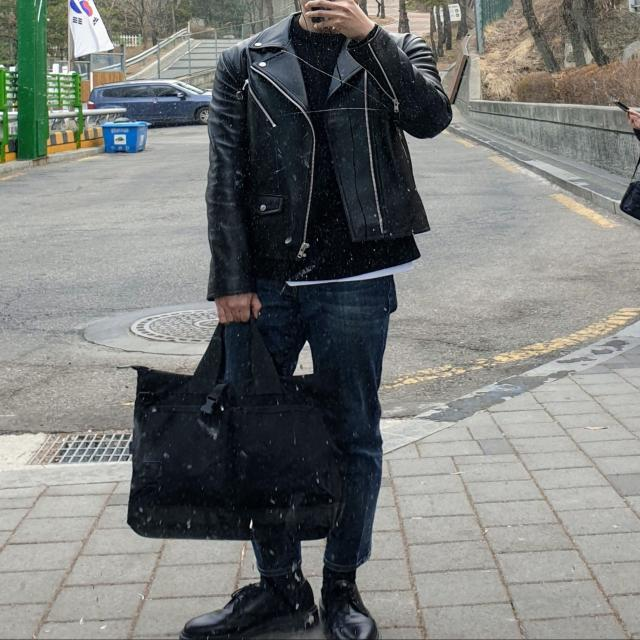denimpants: (236, 271, 400, 575)
jacket: (208, 10, 452, 304)
